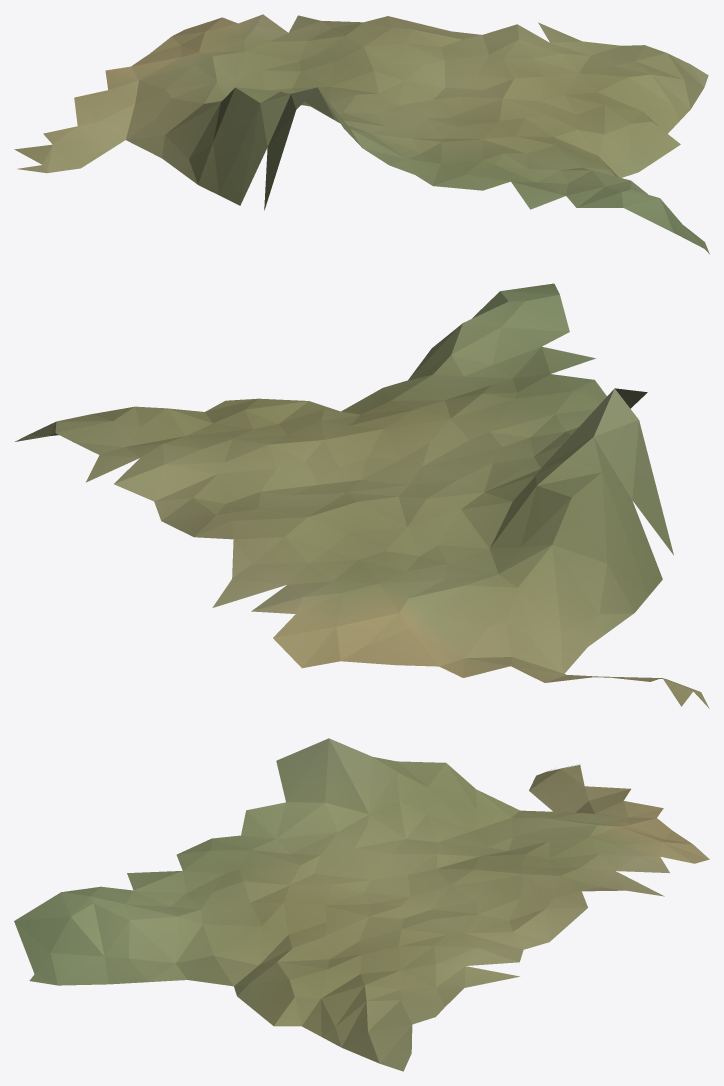
3 renders of one model, top to bottom at view 1: azimuth 30°, elevation 25°; view 2: azimuth 150°, elevation 25°; view 3: azimuth 270°, elevation 25°, orthographic. The views are drawn at different scales.
Parts seen in each view (by area): view 1: 德干台地; view 2: 德干台地; view 3: 德干台地.
Part boxes in pixels (x1,y1,x2,y2): 德干台地: (14, 14, 709, 254); 德干台地: (15, 283, 709, 708); 德干台地: (14, 738, 709, 1071).
Bounding box in the file's own units: 12.85 × 2.38 × 12.38.
